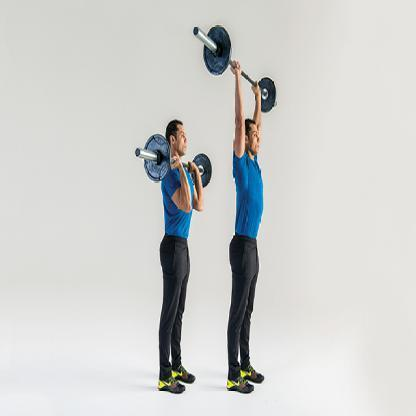barbell: (194, 26, 278, 114), (137, 134, 212, 188)
